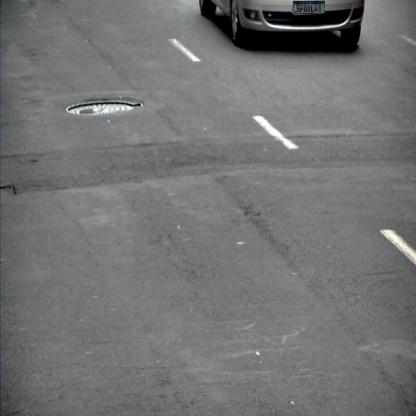PlacaM: (293, 1, 325, 14)
